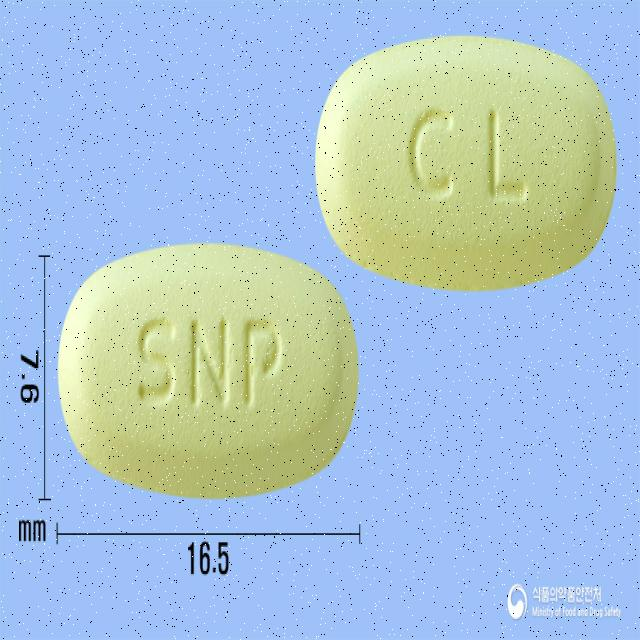A Progen Clarithromycin Tab-500mg: (313, 32, 618, 296), (56, 243, 362, 502)
